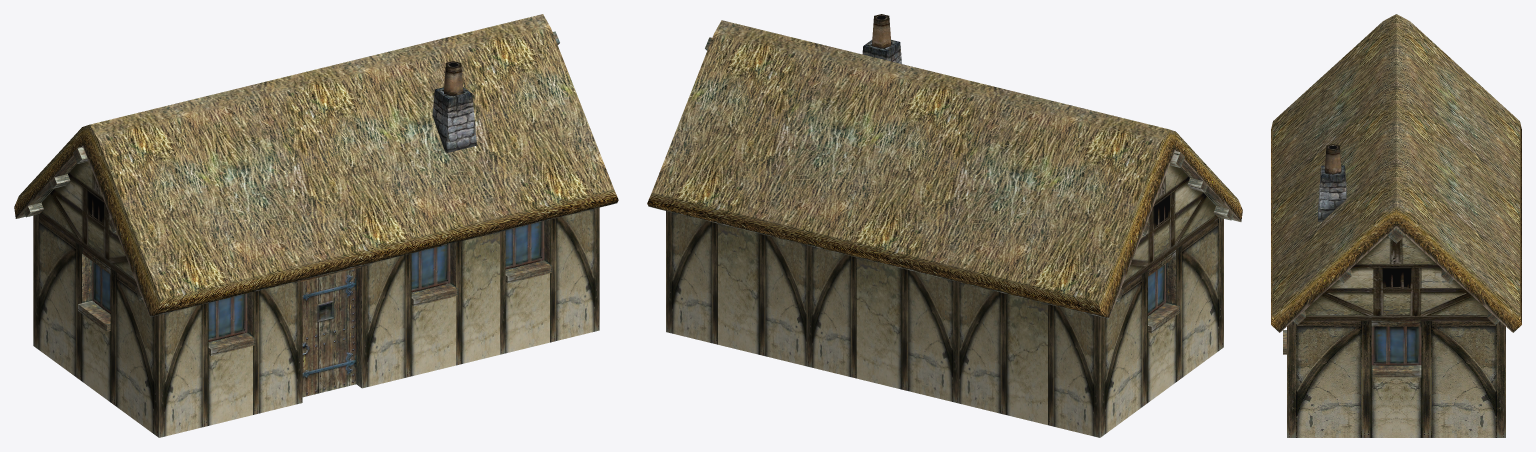
Rendered from S_home07.glb.
3 renders of one model, left to right at view 1: azimuth 30°, elevation 25°; view 2: azimuth 150°, elevation 25°; view 3: azimuth 270°, elevation 25°, orthographic. The views are drawn at different scales.
Parts seen in each view (by area): view 1: S_home07-col; view 2: S_home07-col; view 3: S_home07-col.
Part boxes in pixels (x1,y1,x2,y2): S_home07-col: (14,14,618,437); S_home07-col: (647,14,1242,437); S_home07-col: (1271,14,1521,437).
Size of the model in its own units: 9.66 by 5.32 by 5.04.
9 materials, 9 textured.
